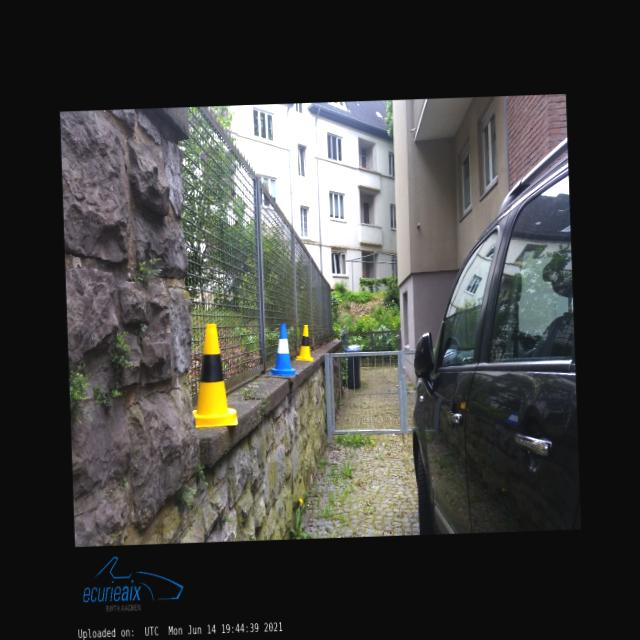blue_cone: (266, 322, 298, 376)
yellow_cone: (190, 323, 238, 427), (294, 324, 314, 362)
